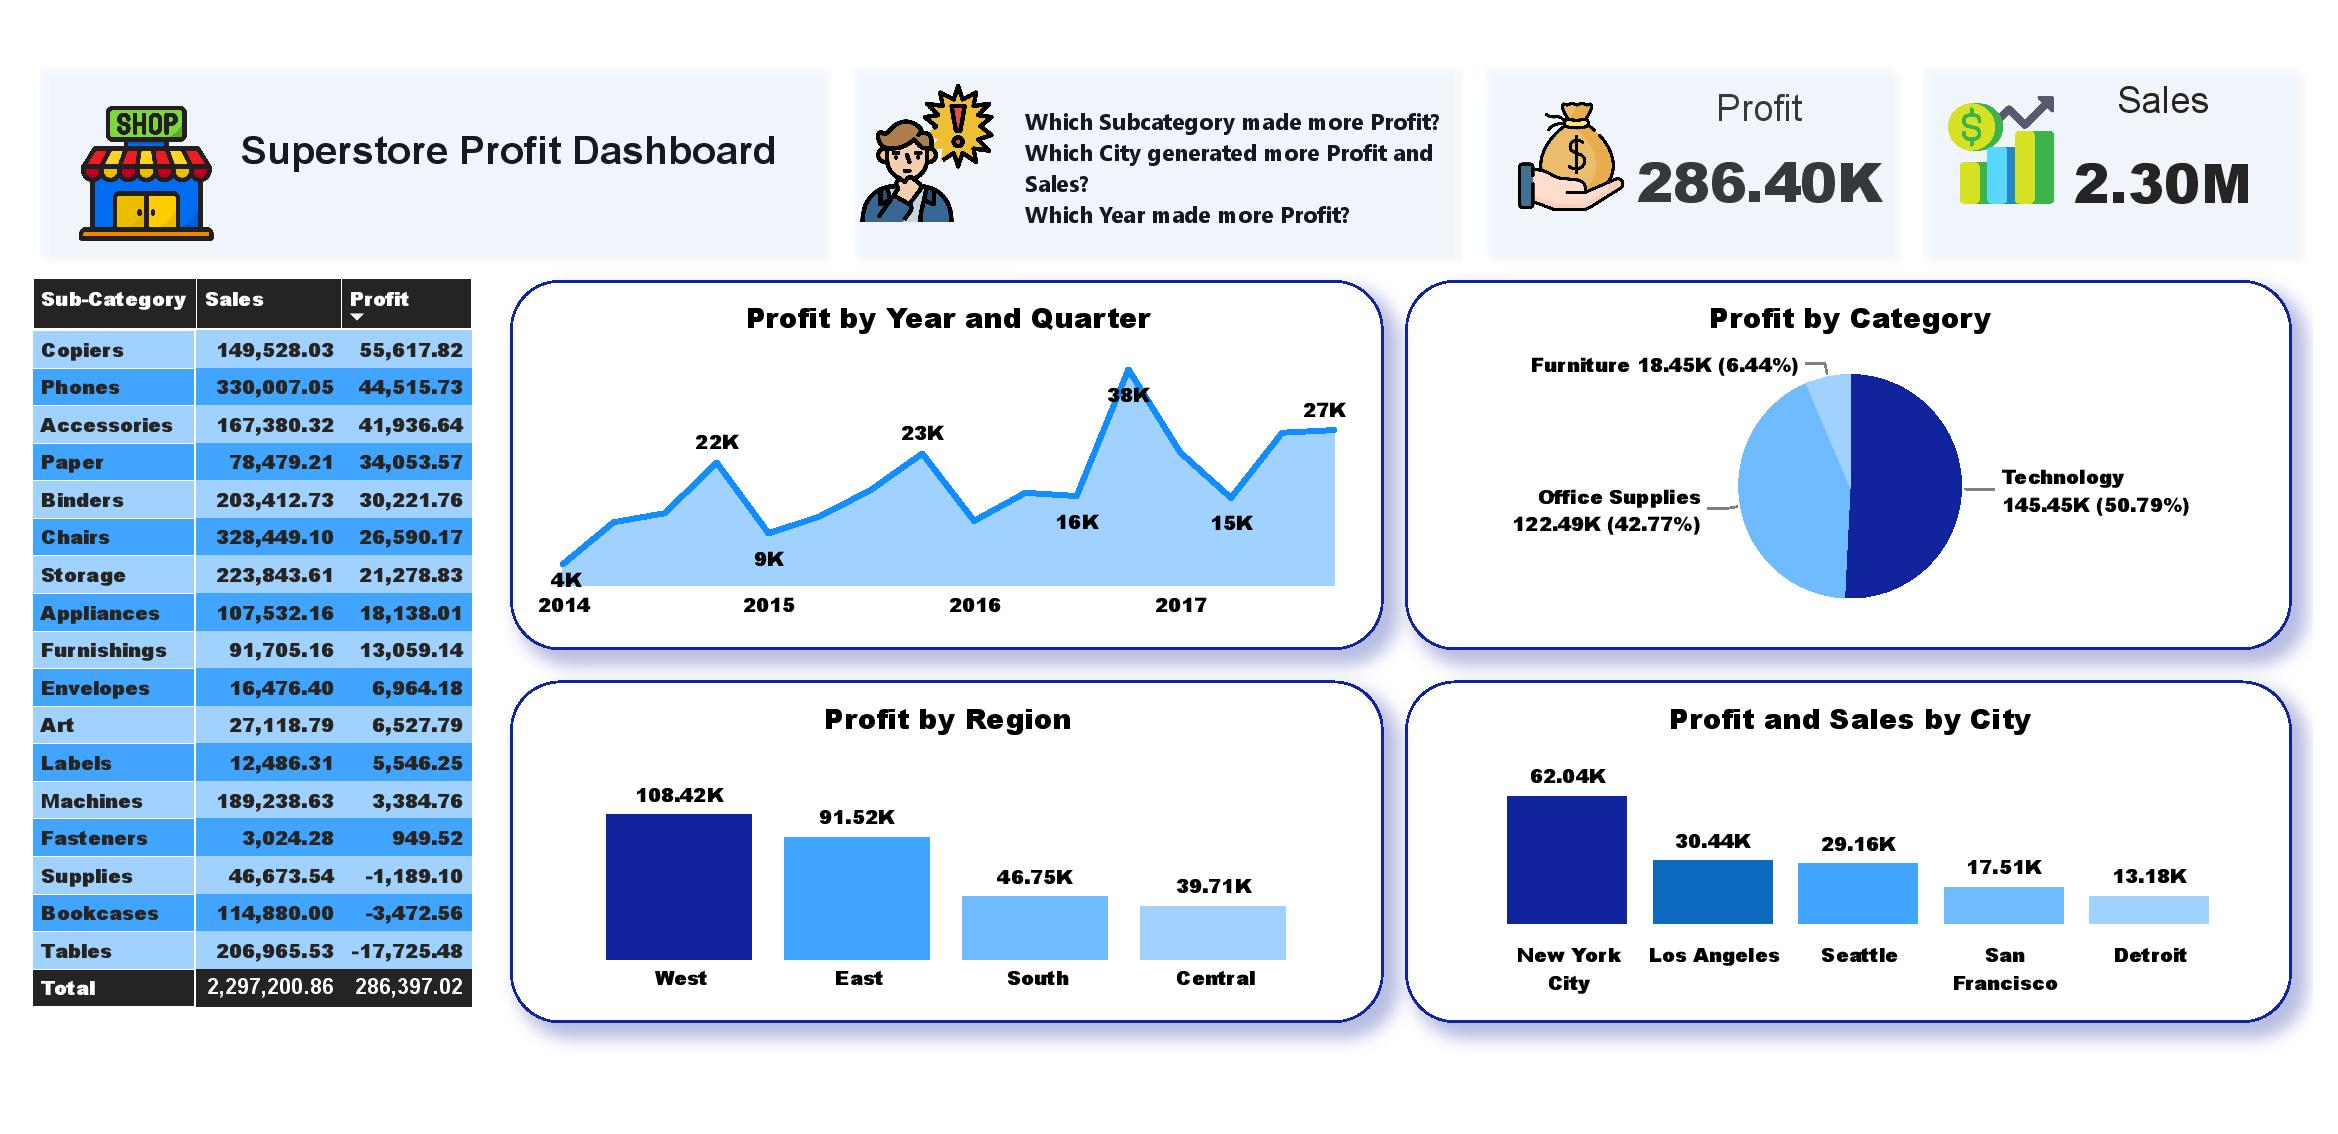

What the dashboard file says about the page in this screenshot:
{"tool":"powerbi","page":{"name":"Dashboard","canvas":[1400,630],"ordinal":0},"visuals":[{"type":"columnChart","fields":{"Category":["Sample - Superstore.Region"],"Y":["Sum(Sample - Superstore.Profit)"]},"box":[297.2,384.9,533.5,209.5],"z":0},{"type":"textbox","box":[111.4,40.6,370.3,60.2],"z":1000},{"type":"pieChart","fields":{"Y":["Sum(Sample - Superstore.Profit)"],"Category":["Sample - Superstore.Category"]},"box":[845,139.6,542.5,225.6],"z":2000},{"type":"areaChart","fields":{"Category":["Sample - Superstore.Order Date.Variation.Date Hierarchy.Year","Sample - Superstore.Order Date.Variation.Date Hierarchy.Quarter","Sample - Superstore.Order Date.Variation.Date Hierarchy.Month","Sample - Superstore.Order Date.Variation.Date Hierarchy.Day"],"Y":["Sum(Sample - Superstore.Profit)"]},"box":[297.2,139.6,533.5,225.6],"z":3000},{"type":"textbox","box":[606.9,10.7,300.8,123.5],"z":4000},{"type":"card","title":"Profit","fields":{"Values":["Sum(Sample - Superstore.Profit)"]},"box":[958.9,15.1,201.7,100.9],"z":5000},{"type":"pivotTable","fields":{"Rows":["Sample - Superstore.Sub-Category"],"Values":["Sum(Sample - Superstore.Sales)","Sum(Sample - Superstore.Profit)"]},"box":[0,134.3,284.7,460.1],"z":6000},{"type":"shape","box":[497.7,0,386.7,134.3],"z":7000},{"type":"shape","box":[1153.1,0,246.9,134],"z":8000},{"type":"card","title":"Sales","fields":{"Values":["Sum(Sample - Superstore.Sales)"]},"box":[1217.8,16.6,182.2,100.9],"z":9000},{"type":"image","box":[1153.1,16.6,112.9,87.3],"z":10000},{"type":"shape","box":[885.2,0,268,134],"z":11000},{"type":"image","box":[481.6,14.3,139.6,96.7],"z":12000},{"type":"image","box":[907.7,22.6,76.8,81.3],"z":13000},{"type":"shape","box":[0,0,497.7,134.3],"z":14000},{"type":"image","box":[23.3,25.1,102,98.5],"z":15000},{"type":"columnChart","fields":{"Category":["Sample - Superstore.City"],"Y":["Sum(Sample - Superstore.Profit)"]},"box":[845,384.9,542.5,209.5],"z":16000}]}

Visuals, with their boxes on the page's 1400x630 design canvas (x1, y1, x2, y2). These are canvas units, not pixel positions in the 2338x1134 screenshot, which may show the page scaled, cropped or inside an application window:
columnChart - Sample - Superstore.Region x Sum(Sample - Superstore.Profit): BBox(297, 385, 831, 594)
textbox: BBox(111, 41, 482, 101)
pieChart - Sum(Sample - Superstore.Profit) x Sample - Superstore.Category: BBox(845, 140, 1388, 365)
areaChart - Sample - Superstore.Order Date.Variation.Date Hierarchy.Year x Sample - Superstore.Order Date.Variation.Date Hierarchy.Quarter: BBox(297, 140, 831, 365)
textbox: BBox(607, 11, 908, 134)
"Profit" card: BBox(959, 15, 1161, 116)
pivotTable - Sample - Superstore.Sub-Category x Sum(Sample - Superstore.Sales): BBox(0, 134, 285, 594)
shape: BBox(498, 0, 884, 134)
shape: BBox(1153, 0, 1400, 134)
"Sales" card: BBox(1218, 17, 1400, 118)
image: BBox(1153, 17, 1266, 104)
shape: BBox(885, 0, 1153, 134)
image: BBox(482, 14, 621, 111)
image: BBox(908, 23, 984, 104)
shape: BBox(0, 0, 498, 134)
image: BBox(23, 25, 125, 124)
columnChart - Sample - Superstore.City x Sum(Sample - Superstore.Profit): BBox(845, 385, 1388, 594)
